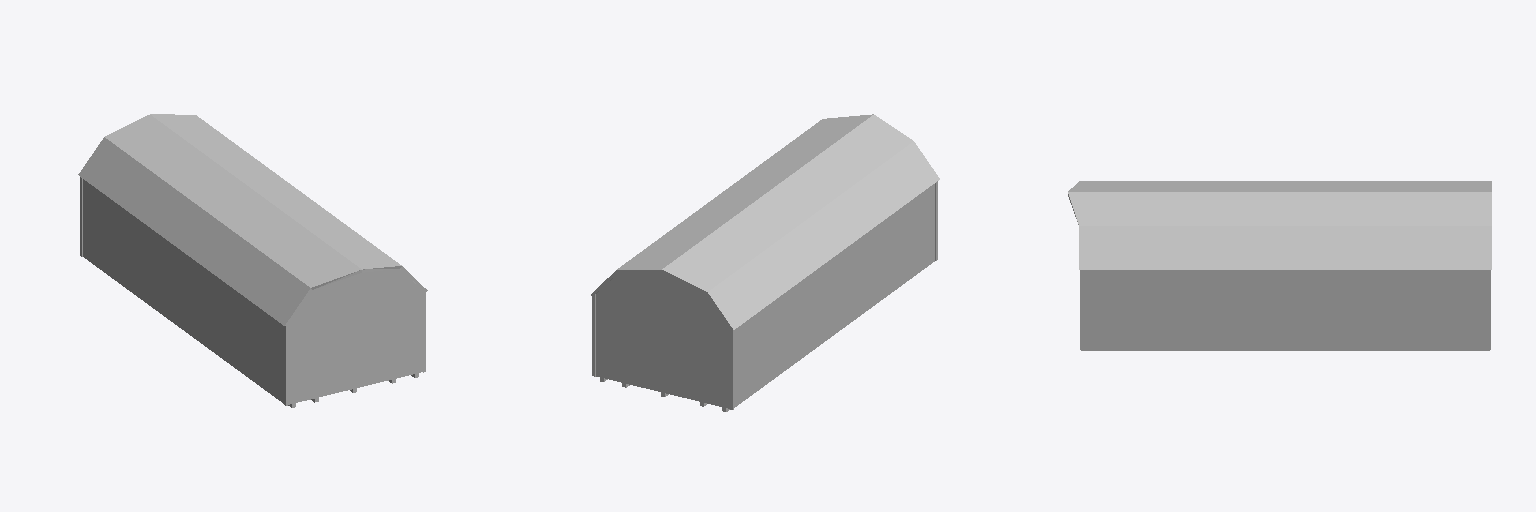
The model's file is High Wall Barns_12x32.obj.
The picture shows the model from 3 angles: view 1: azimuth 30°, elevation 25°; view 2: azimuth 150°, elevation 25°; view 3: azimuth 270°, elevation 25°; orthographic projection.
Visible parts, largest first — view 1: High Wall Barns_12x32.obj; view 2: High Wall Barns_12x32.obj; view 3: High Wall Barns_12x32.obj.
Part boxes in pixels (x1,y1,x2,y2): High Wall Barns_12x32.obj: (78, 114, 427, 407); High Wall Barns_12x32.obj: (591, 114, 939, 411); High Wall Barns_12x32.obj: (1068, 181, 1491, 350).
Size of the model in its own units: 3.72 by 3.17 by 9.5.